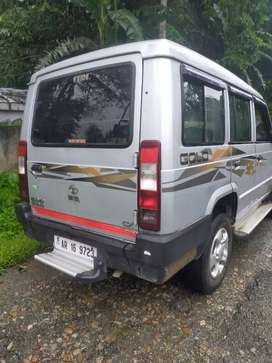AR169723: (54, 234, 97, 261)
